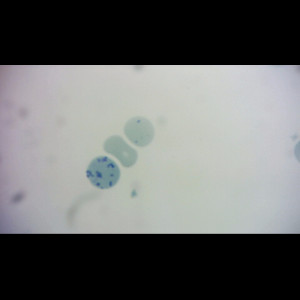aggregate reticulocyte: (84, 155, 121, 191)
erythrocyte: (102, 133, 140, 169)
punctate reticulocyte: (122, 116, 156, 148)
